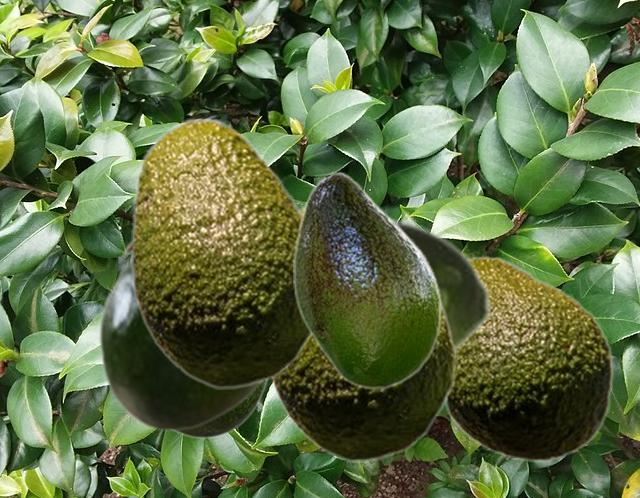avocado: (122, 117, 312, 388), (269, 201, 456, 461), (444, 255, 613, 462), (293, 171, 441, 388), (97, 257, 265, 431), (394, 217, 492, 359), (174, 382, 268, 438)
